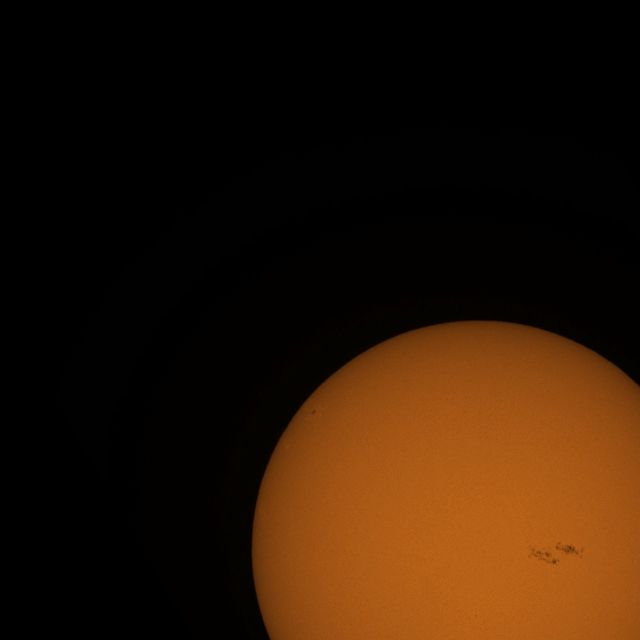sunspot: (527, 541, 575, 566), (310, 408, 316, 416)
